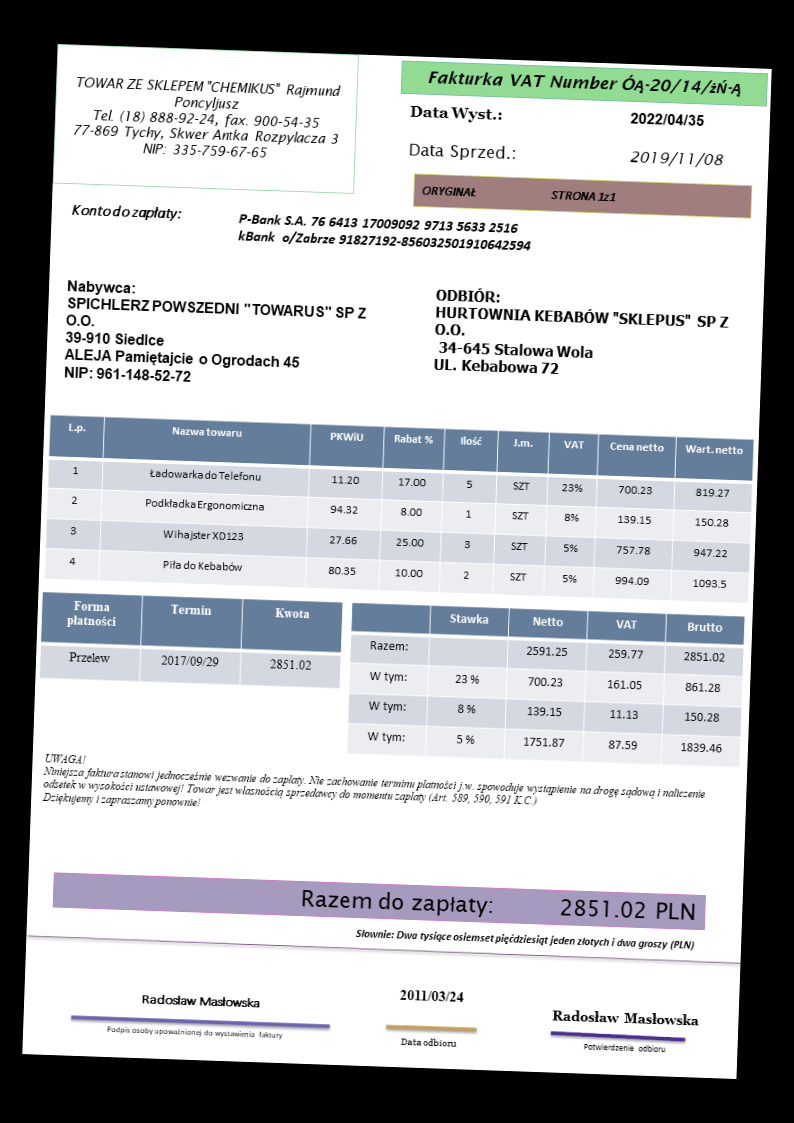Table: (42, 411, 754, 603), (343, 599, 746, 768), (39, 591, 342, 689)
TextBox: (42, 748, 711, 830), (60, 275, 372, 393), (429, 284, 734, 384), (67, 69, 345, 166), (298, 885, 698, 927), (233, 209, 537, 256), (422, 66, 745, 101), (352, 923, 698, 955), (417, 181, 621, 208), (104, 1020, 287, 1043), (548, 1006, 700, 1031), (67, 197, 184, 225), (405, 139, 520, 165), (137, 990, 264, 1010), (406, 101, 507, 126), (626, 146, 727, 171), (627, 107, 706, 130), (394, 985, 468, 1007), (582, 1039, 669, 1057), (397, 1033, 460, 1051)
